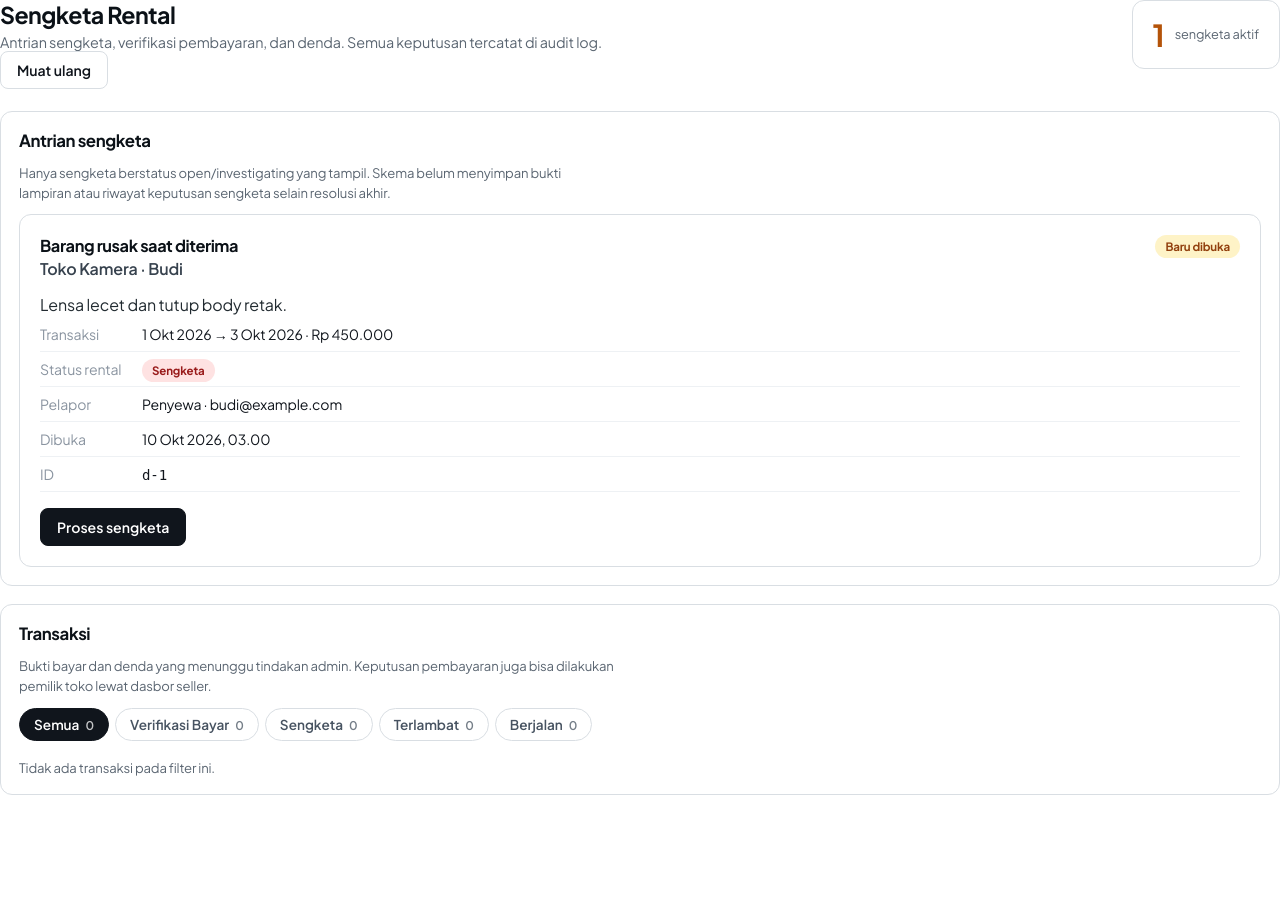
Test: AdminOrders — resolusi sengketa › sukses memanggil RPC, memberi notifikasi, dan menutup form
Check: the heading "Barang rusak saat diterima" is shown, box [40,235,238,256]
Click the button "Proses sengketa" at (113, 527), box [40,508,186,546]
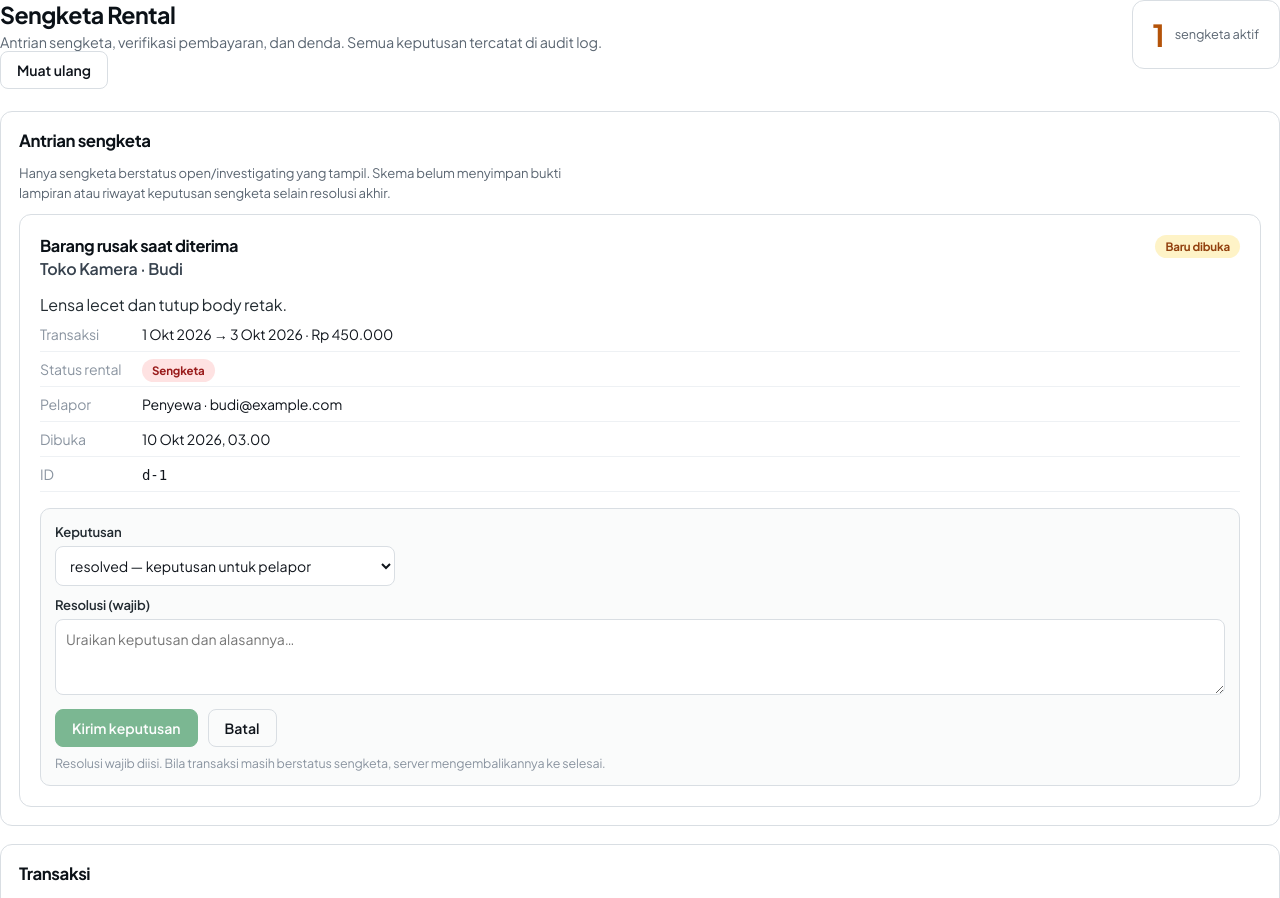
Type "Lensa diganti pemilik toko." into the text box labelled "Resolusi (wajib)" at (640, 657), box [55,619,1225,695]
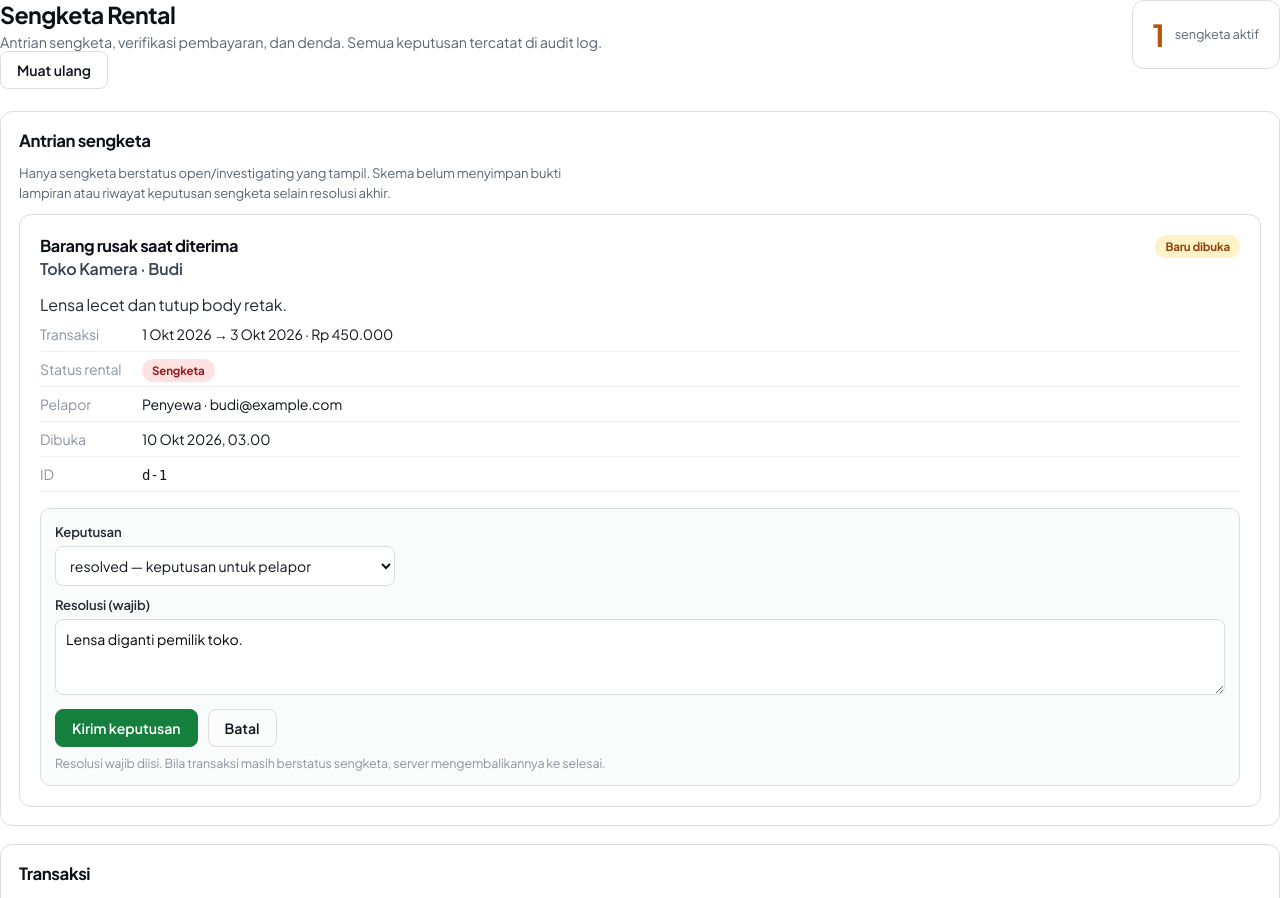
Click the button "Kirim keputusan" at (126, 728), box [55,709,198,747]
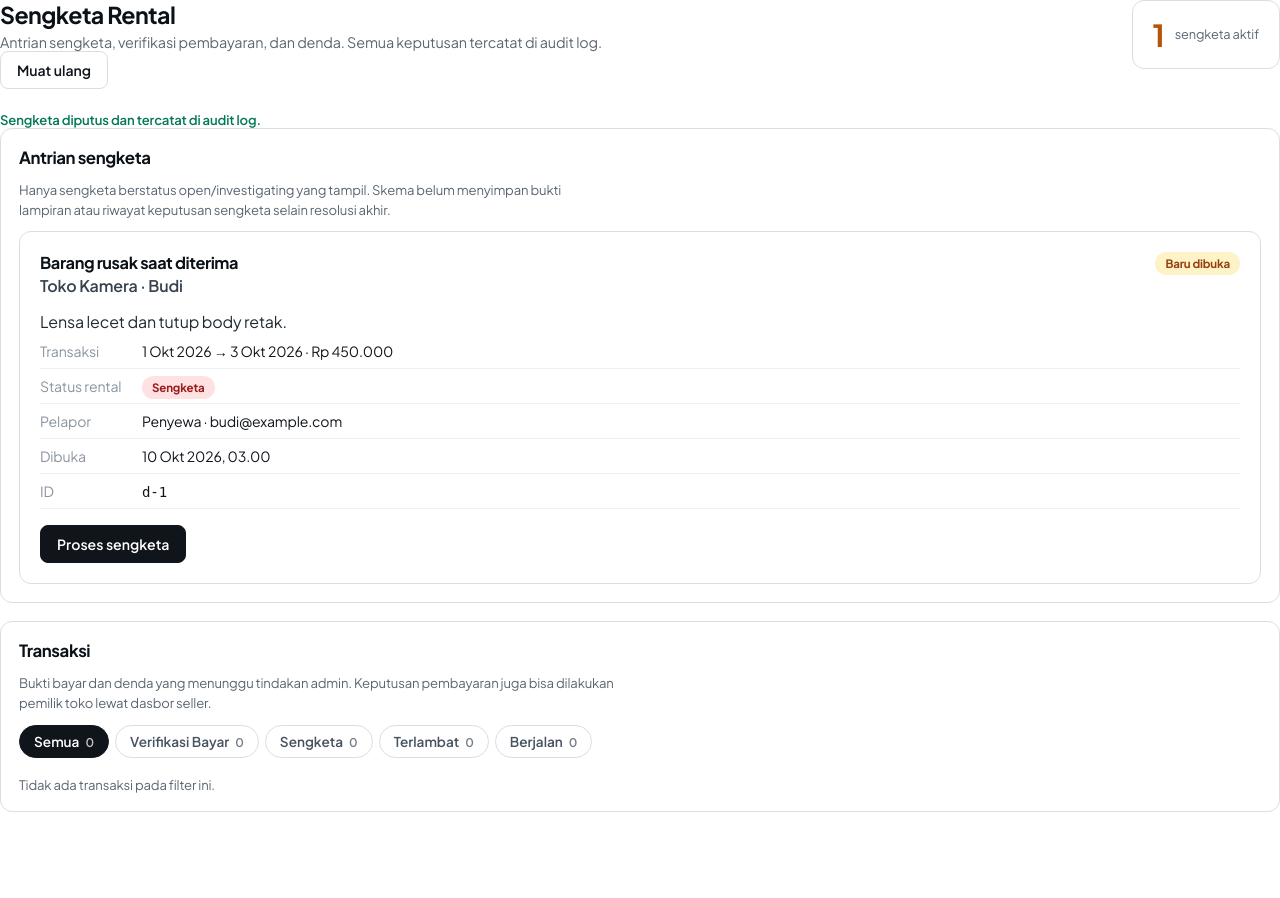
Check: the text "Sengketa diputus dan tercatat di audit log." is shown, box [0,111,261,128]
Check: the label labelled "Resolusi (wajib)" is gone
